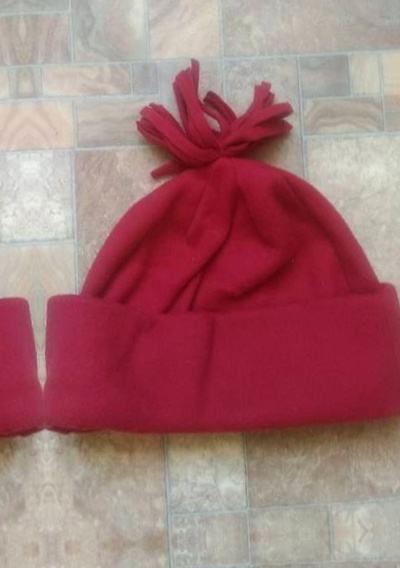Hat: (25, 70, 400, 449), (0, 91, 46, 470)
